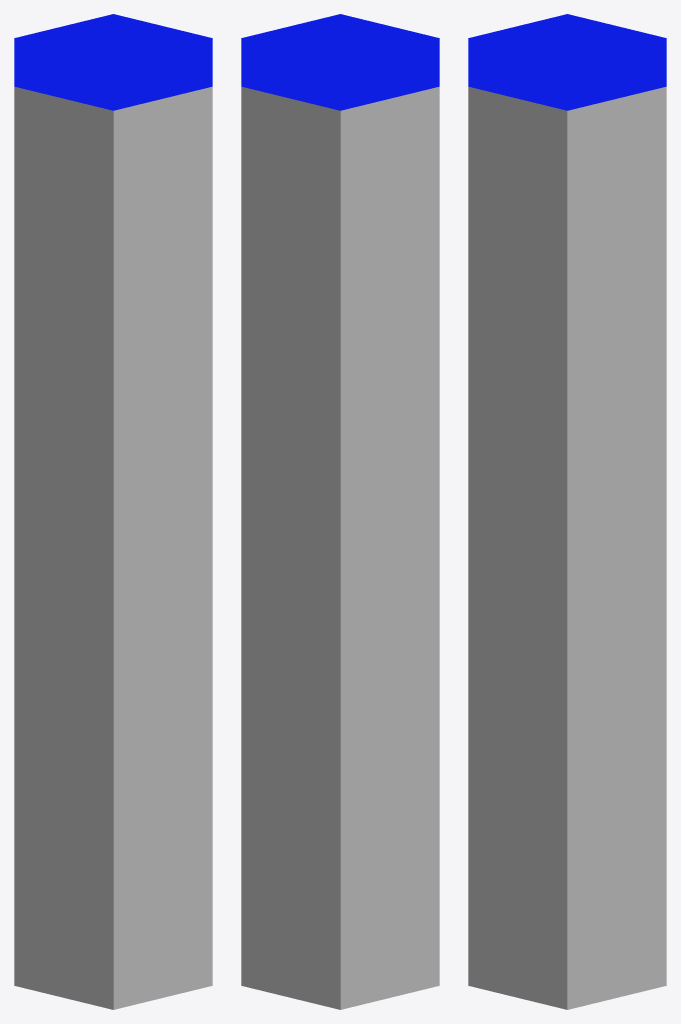
File: hex.fbx
The picture shows the model from 3 angles, left to right: view 1: azimuth 30°, elevation 25°; view 2: azimuth 150°, elevation 25°; view 3: azimuth 270°, elevation 25°; orthographic projection.
Parts seen in each view (by area): view 1: Object_1, Object_2; view 2: Object_1, Object_2; view 3: Object_1, Object_2.
Part boxes in pixels (x1,y1,x2,y2): Object_1: (14,86,212,1009); Object_2: (14,14,212,110); Object_1: (241,86,439,1009); Object_2: (241,14,439,110); Object_1: (468,86,666,1009); Object_2: (468,14,666,110).
Bounding box in the file's own units: 115 × 100 × 500.
